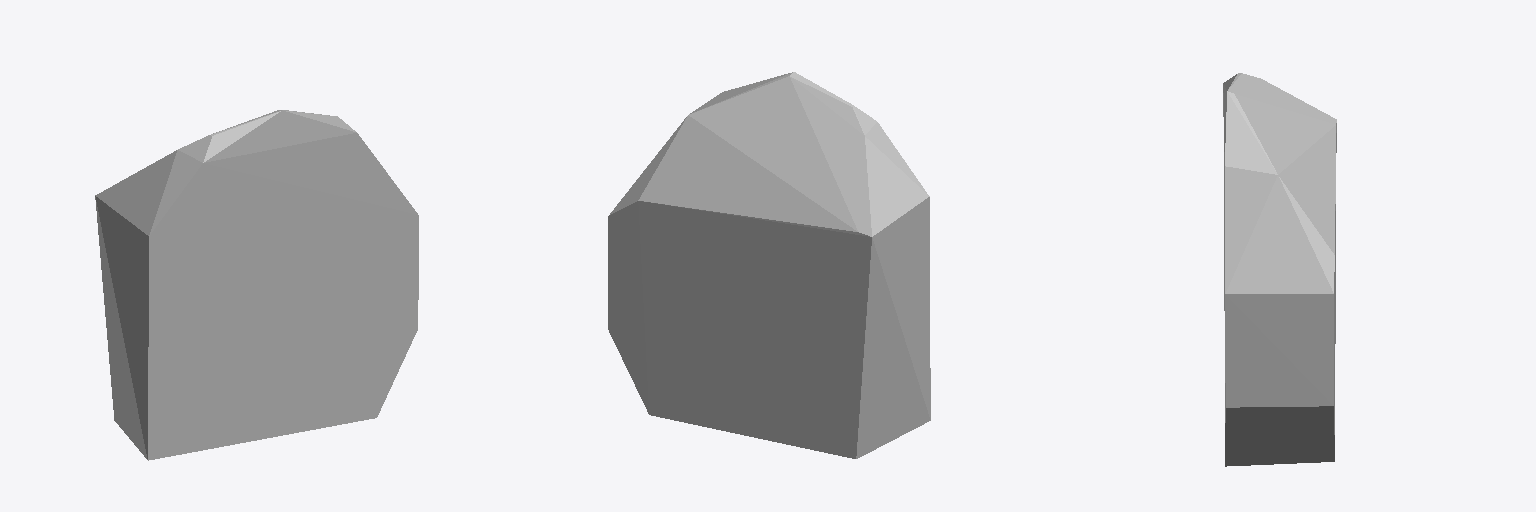
The model's file is airplane_001_collision_19.obj.
The picture shows the model from 3 angles: view 1: azimuth 30°, elevation 25°; view 2: azimuth 150°, elevation 25°; view 3: azimuth 270°, elevation 25°; orthographic projection.
Bounding box in the file's own units: 1.11 × 1.29 × 0.402.